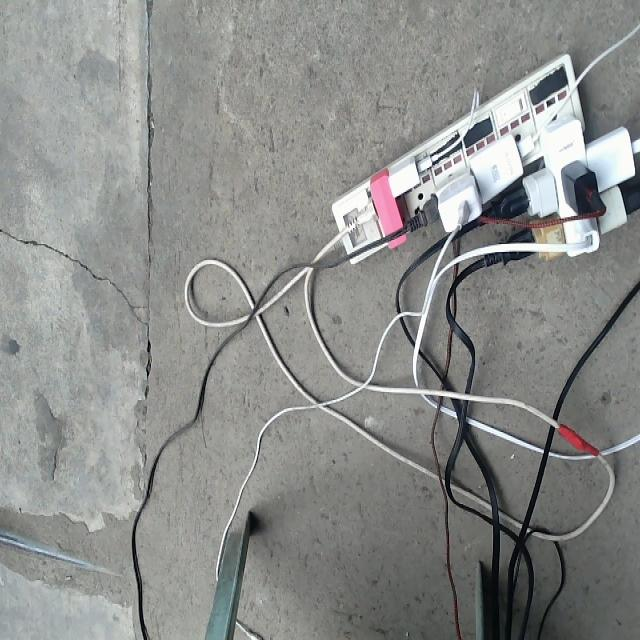-: (329, 51, 639, 265)
